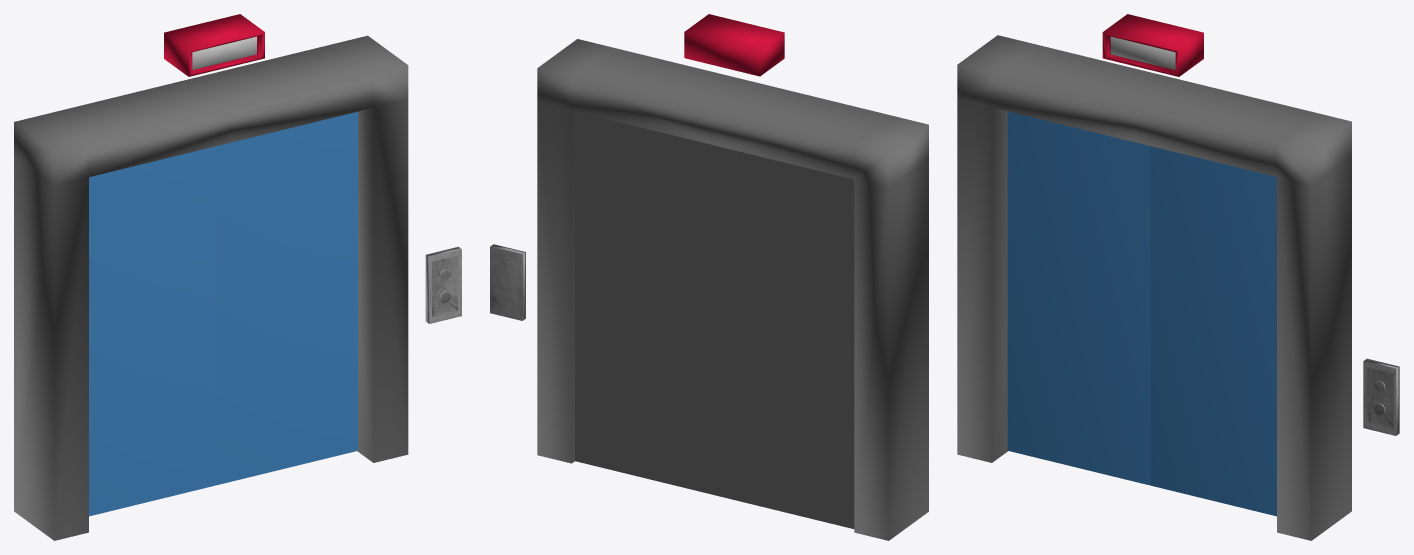
The model's file is ExitDoors.fbx.
The picture shows the model from 3 angles, left to right: view 1: azimuth 30°, elevation 25°; view 2: azimuth 150°, elevation 25°; view 3: azimuth 330°, elevation 25°; orthographic projection.
Visible parts, largest first — view 1: DoorFrame, DoorR, DoorL, LightSign, ButtonPanel; view 2: Darkness, DoorFrame, LightSign, ButtonPanel; view 3: DoorFrame, DoorL, DoorR, LightSign, ButtonPanel.
Boxes of the visible parts, x1,y1,x2,y2 form: DoorFrame: [14, 35, 408, 540]; DoorR: [215, 111, 357, 485]; DoorL: [89, 146, 215, 516]; LightSign: [164, 14, 264, 76]; ButtonPanel: [425, 246, 461, 323]; Darkness: [575, 111, 854, 528]; DoorFrame: [537, 39, 928, 540]; LightSign: [684, 14, 784, 76]; ButtonPanel: [490, 244, 525, 320]; DoorFrame: [957, 35, 1351, 540]; DoorL: [1007, 111, 1150, 485]; DoorR: [1150, 146, 1276, 516]; LightSign: [1102, 14, 1203, 76]; ButtonPanel: [1363, 358, 1399, 435].
Size of the model in its own units: 11.06 by 11.3 by 1.83.
Materials: 5 (1 with a texture image).
